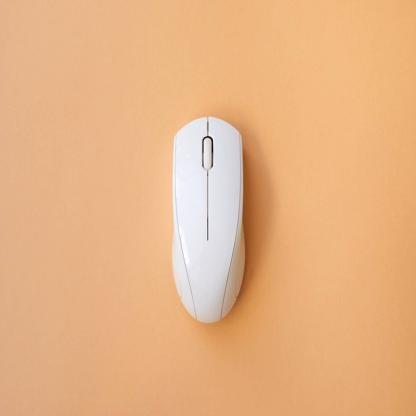not trash: (174, 115, 244, 321)
